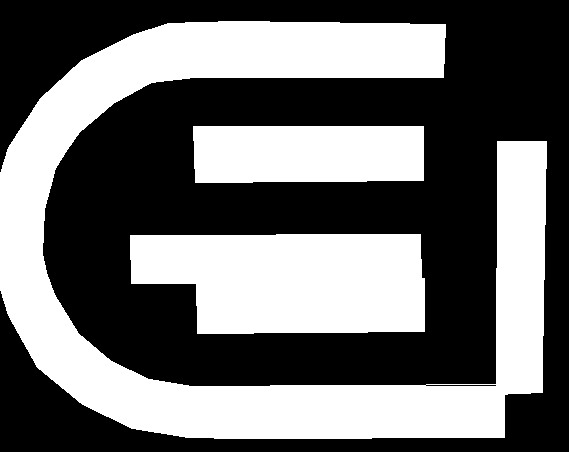parkingspot: (0, 21, 504, 438), (130, 234, 421, 283), (193, 126, 423, 182), (496, 141, 546, 394), (196, 278, 424, 333)
